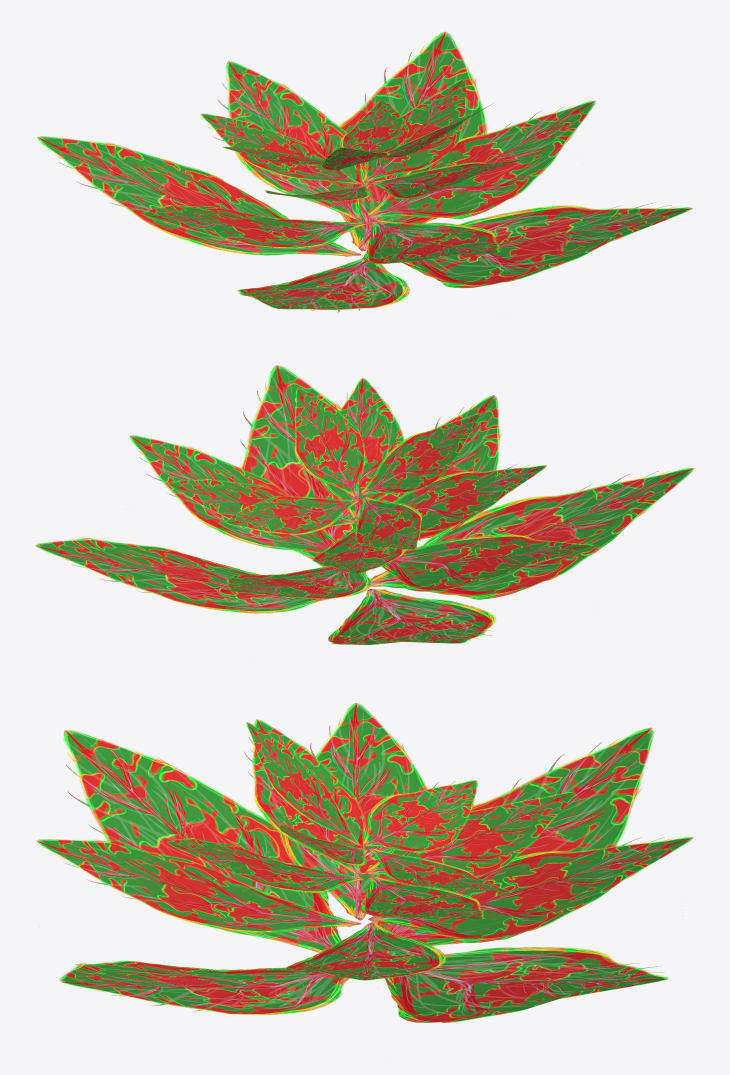
The model's file is nerveplant.glb.
3 views of the same model, one above another, from view 1: azimuth 30°, elevation 25°; view 2: azimuth 150°, elevation 25°; view 3: azimuth 270°, elevation 25° (orthographic). The views are drawn at different scales.
Parts seen in each view (by area): view 1: Plane.004; view 2: Plane.004; view 3: Plane.004.
Part boxes in pixels (x1=…): Plane.004: x1=37, y1=32, x2=692, y2=312; Plane.004: x1=35, y1=365, x2=693, y2=644; Plane.004: x1=37, y1=703, x2=693, y2=1022.
Bounding box in the file's own units: 4.31 × 1.37 × 4.31.
1 material, 1 textured.
